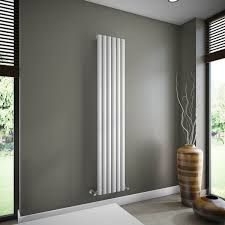Radiator: (92, 32, 131, 197)
